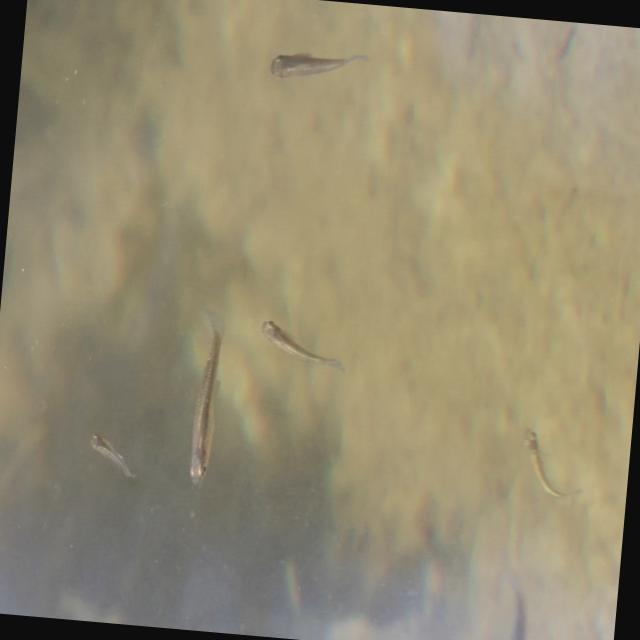Sivrisinek Baligi: (184, 310, 230, 488), (504, 425, 590, 506), (256, 309, 350, 381), (262, 34, 370, 90), (83, 431, 140, 484)
